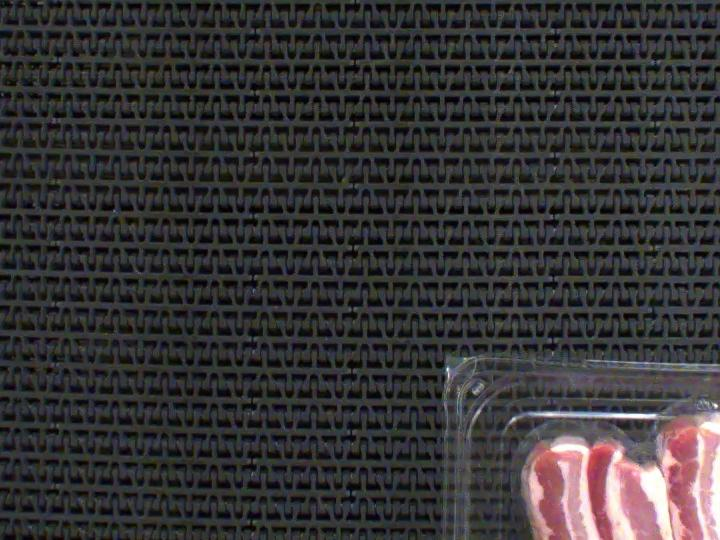unsealed: (500, 372, 720, 512)
